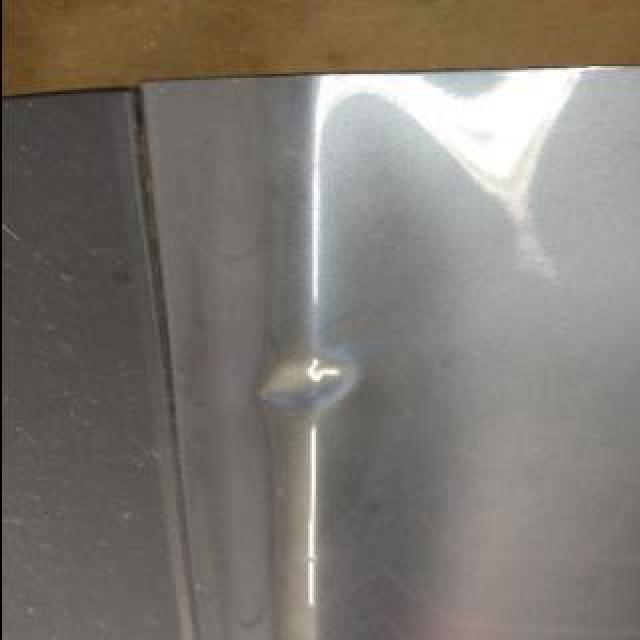dent: (257, 349, 361, 415)
